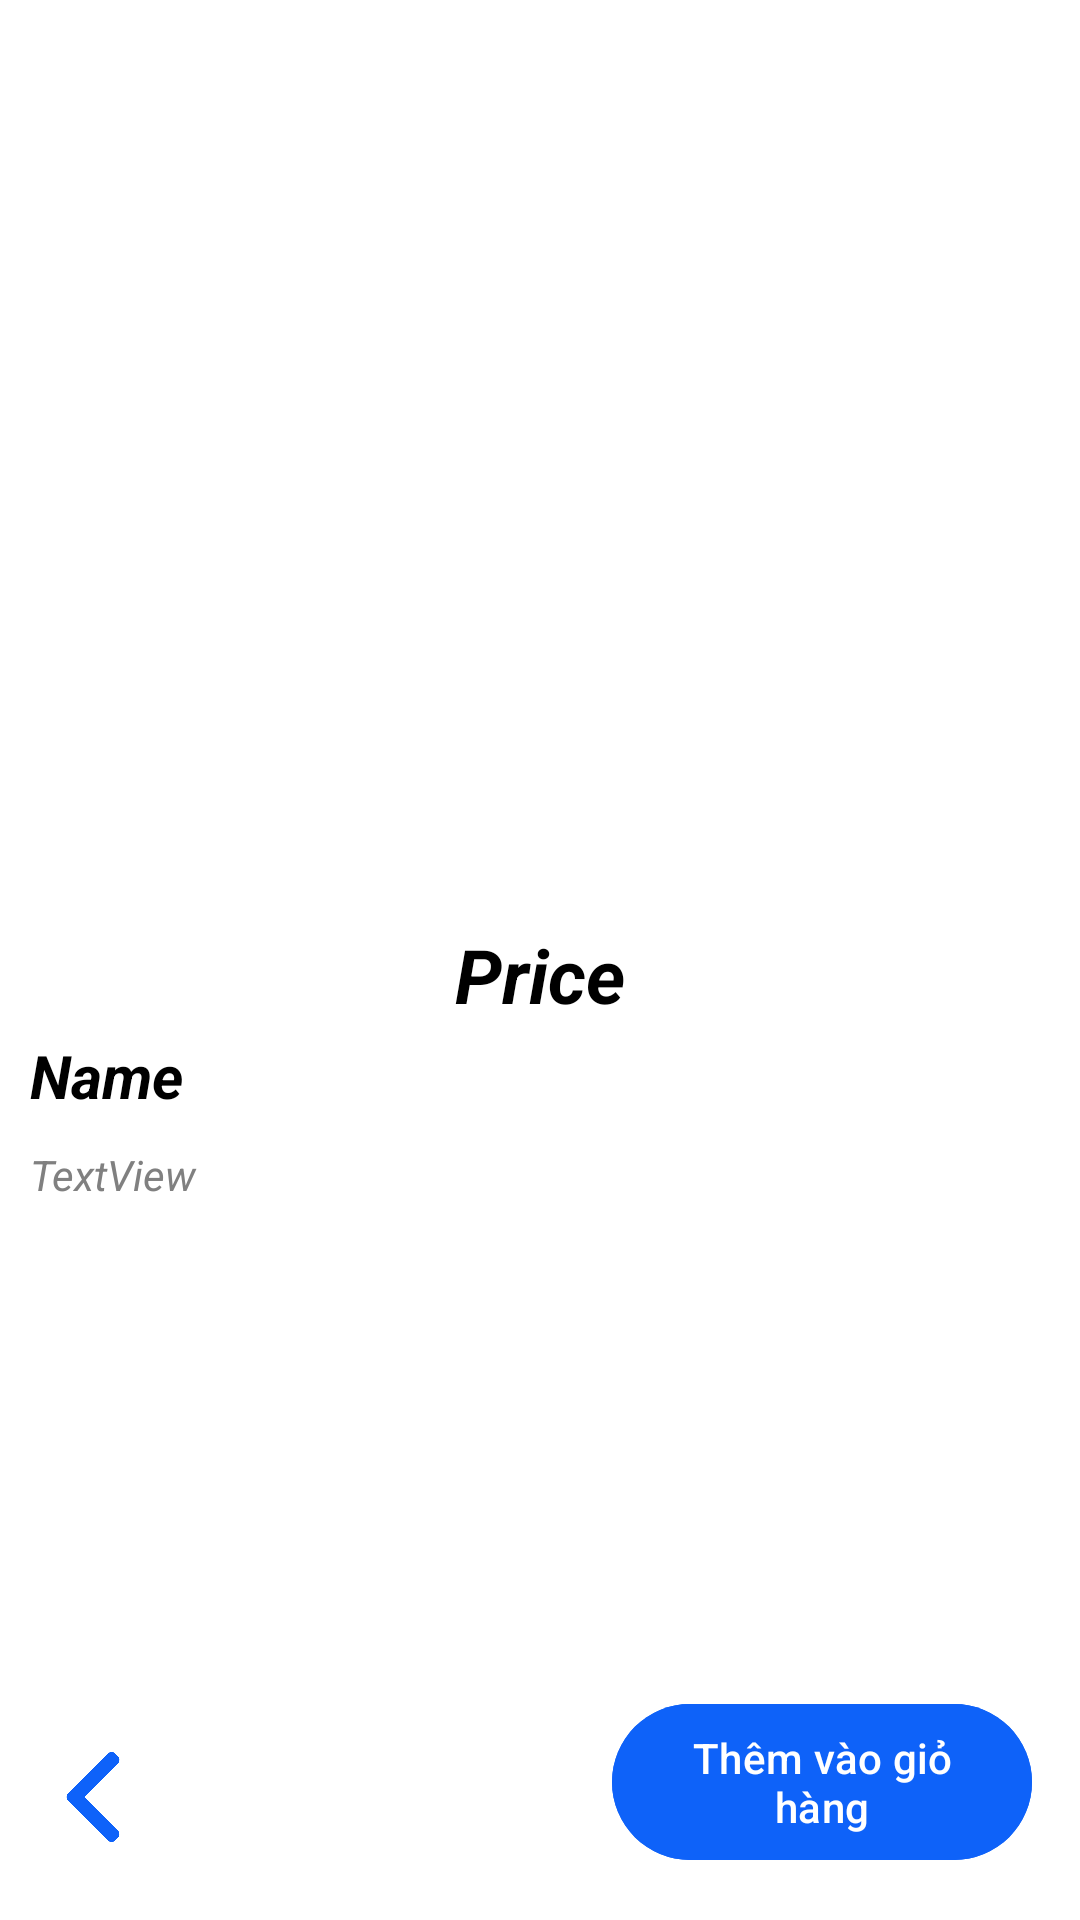

Locate icon controls on the screen. Image size 1080 x 1920, boxes as [x1,y1,x2,y2].
left arrow: [66,1752,120,1842]
